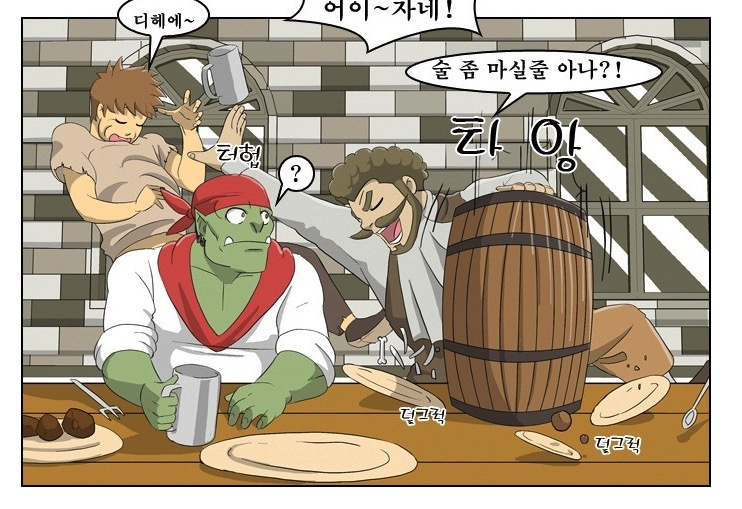beer: (157, 361, 222, 448), (197, 41, 251, 107)
cup: (155, 359, 222, 450), (195, 37, 255, 109)
